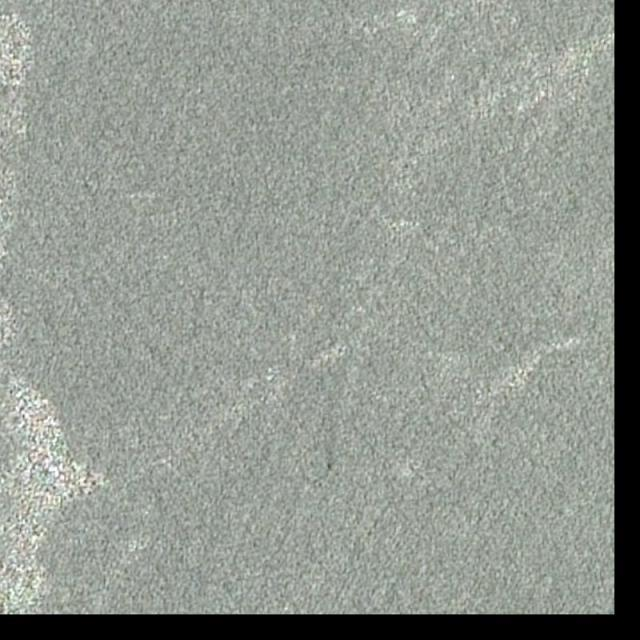ship: (327, 464, 331, 472)
